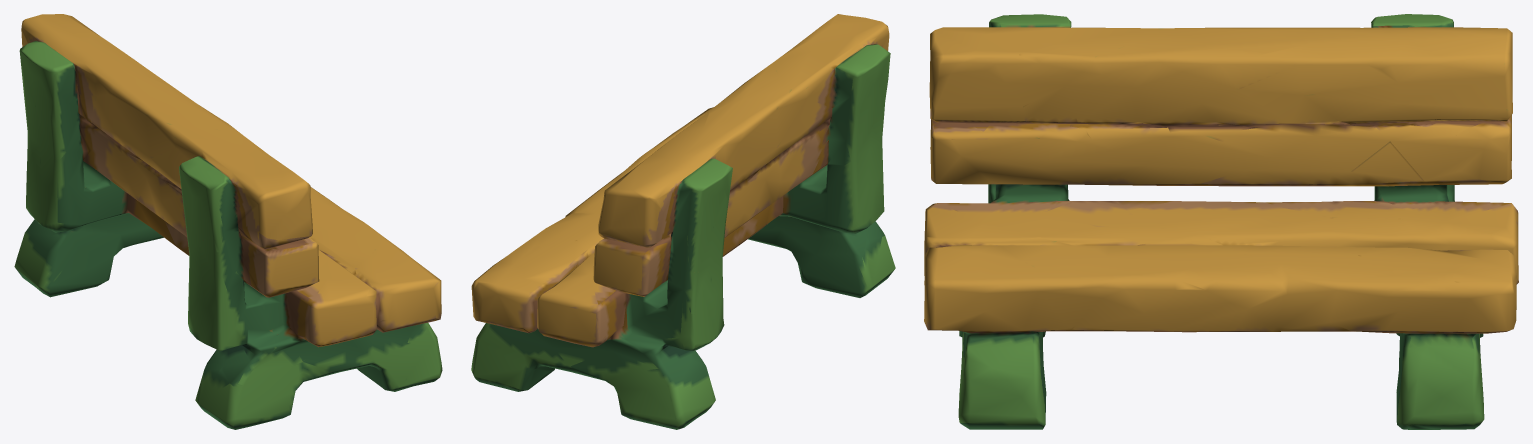
Rendered from bench.glb.
The picture shows the model from 3 angles, left to right: view 1: azimuth 30°, elevation 25°; view 2: azimuth 150°, elevation 25°; view 3: azimuth 270°, elevation 25°; orthographic projection. The views are drawn at different scales.
Parts seen in each view (by area): view 1: tripo_node_1a2de3d7-066d-4ed2-b7b1-80cbe1f10e5c; view 2: tripo_node_1a2de3d7-066d-4ed2-b7b1-80cbe1f10e5c; view 3: tripo_node_1a2de3d7-066d-4ed2-b7b1-80cbe1f10e5c.
Boxes of the visible parts, box(x1,y1,x2,y2) form: tripo_node_1a2de3d7-066d-4ed2-b7b1-80cbe1f10e5c: box(14, 14, 442, 429); tripo_node_1a2de3d7-066d-4ed2-b7b1-80cbe1f10e5c: box(471, 14, 895, 429); tripo_node_1a2de3d7-066d-4ed2-b7b1-80cbe1f10e5c: box(924, 14, 1518, 429).
Bounding box in the file's own units: 0.5327 × 0.5456 × 1.
Materials: 1 (1 with a texture image).
